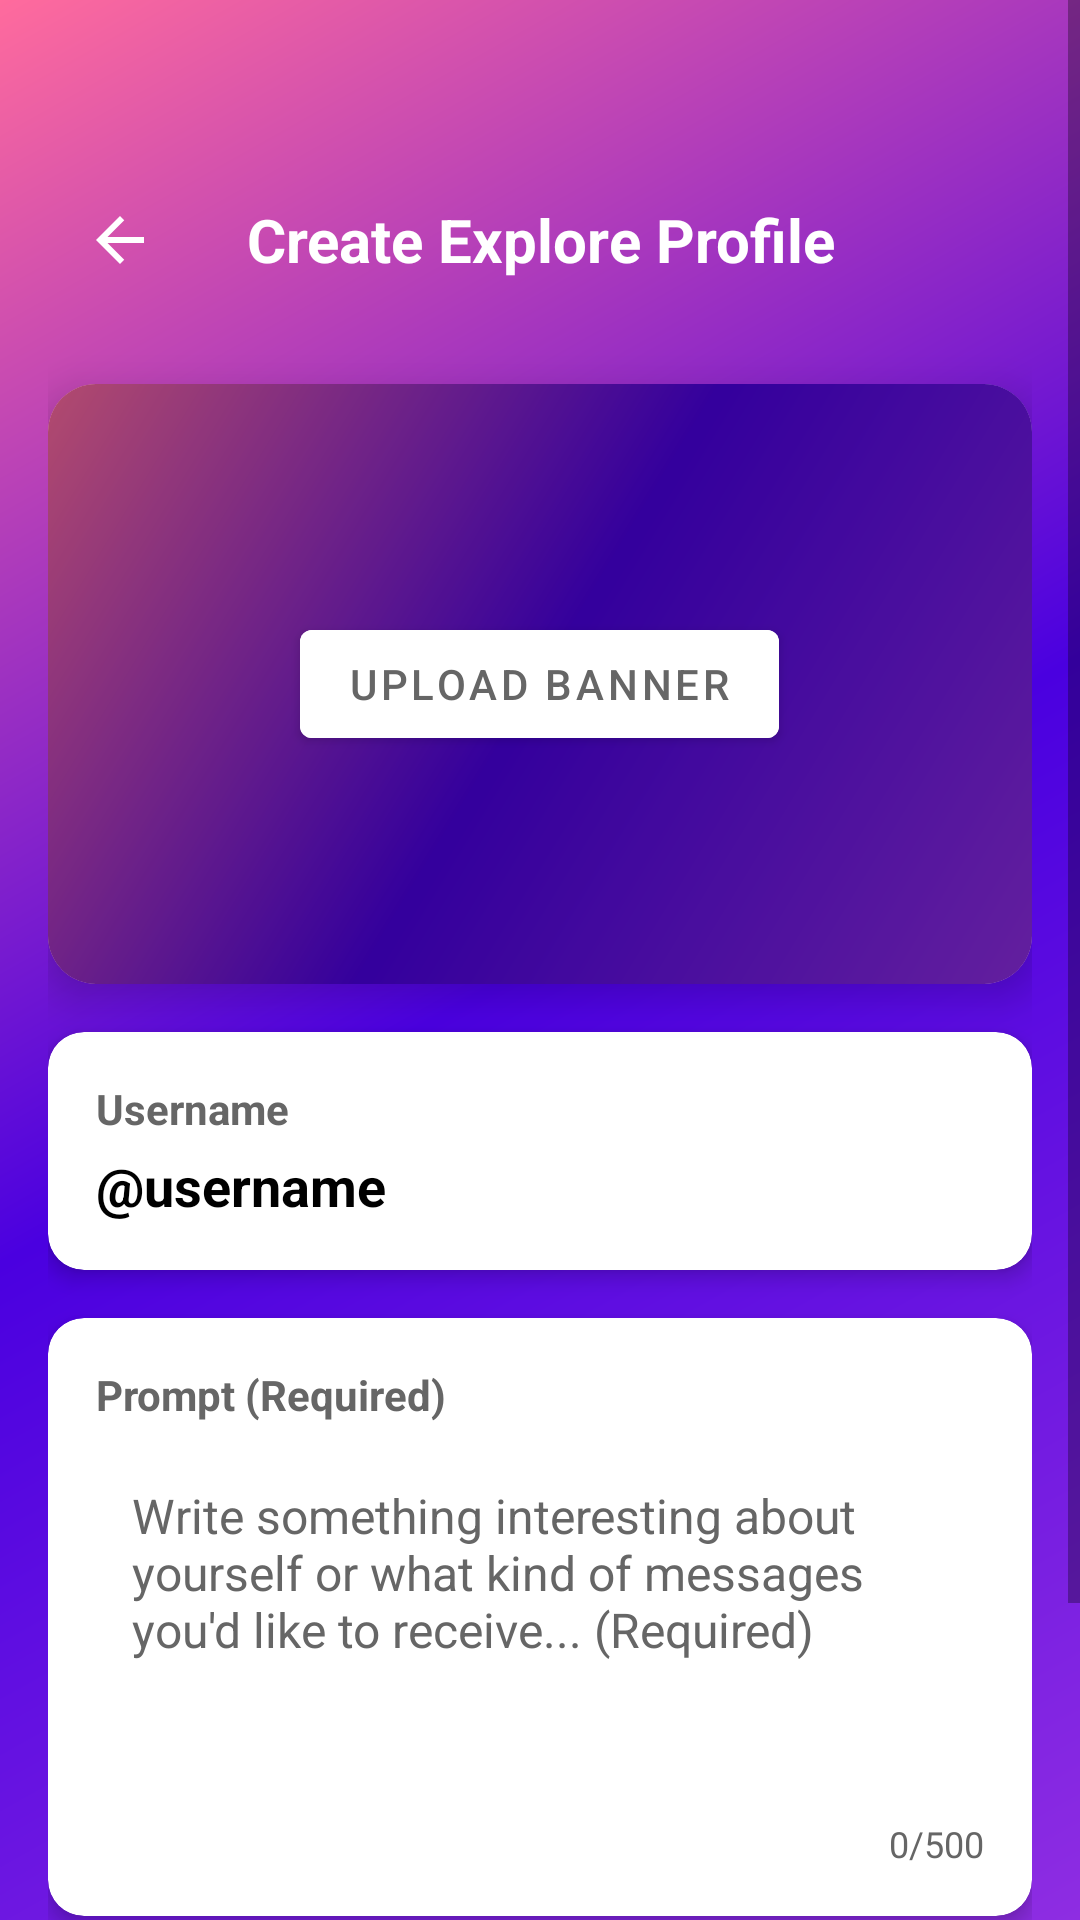

Icons on this 1080 x 1920 Android screen, each with the point to tap as point (x, y):
arrow back: point (120, 240)
